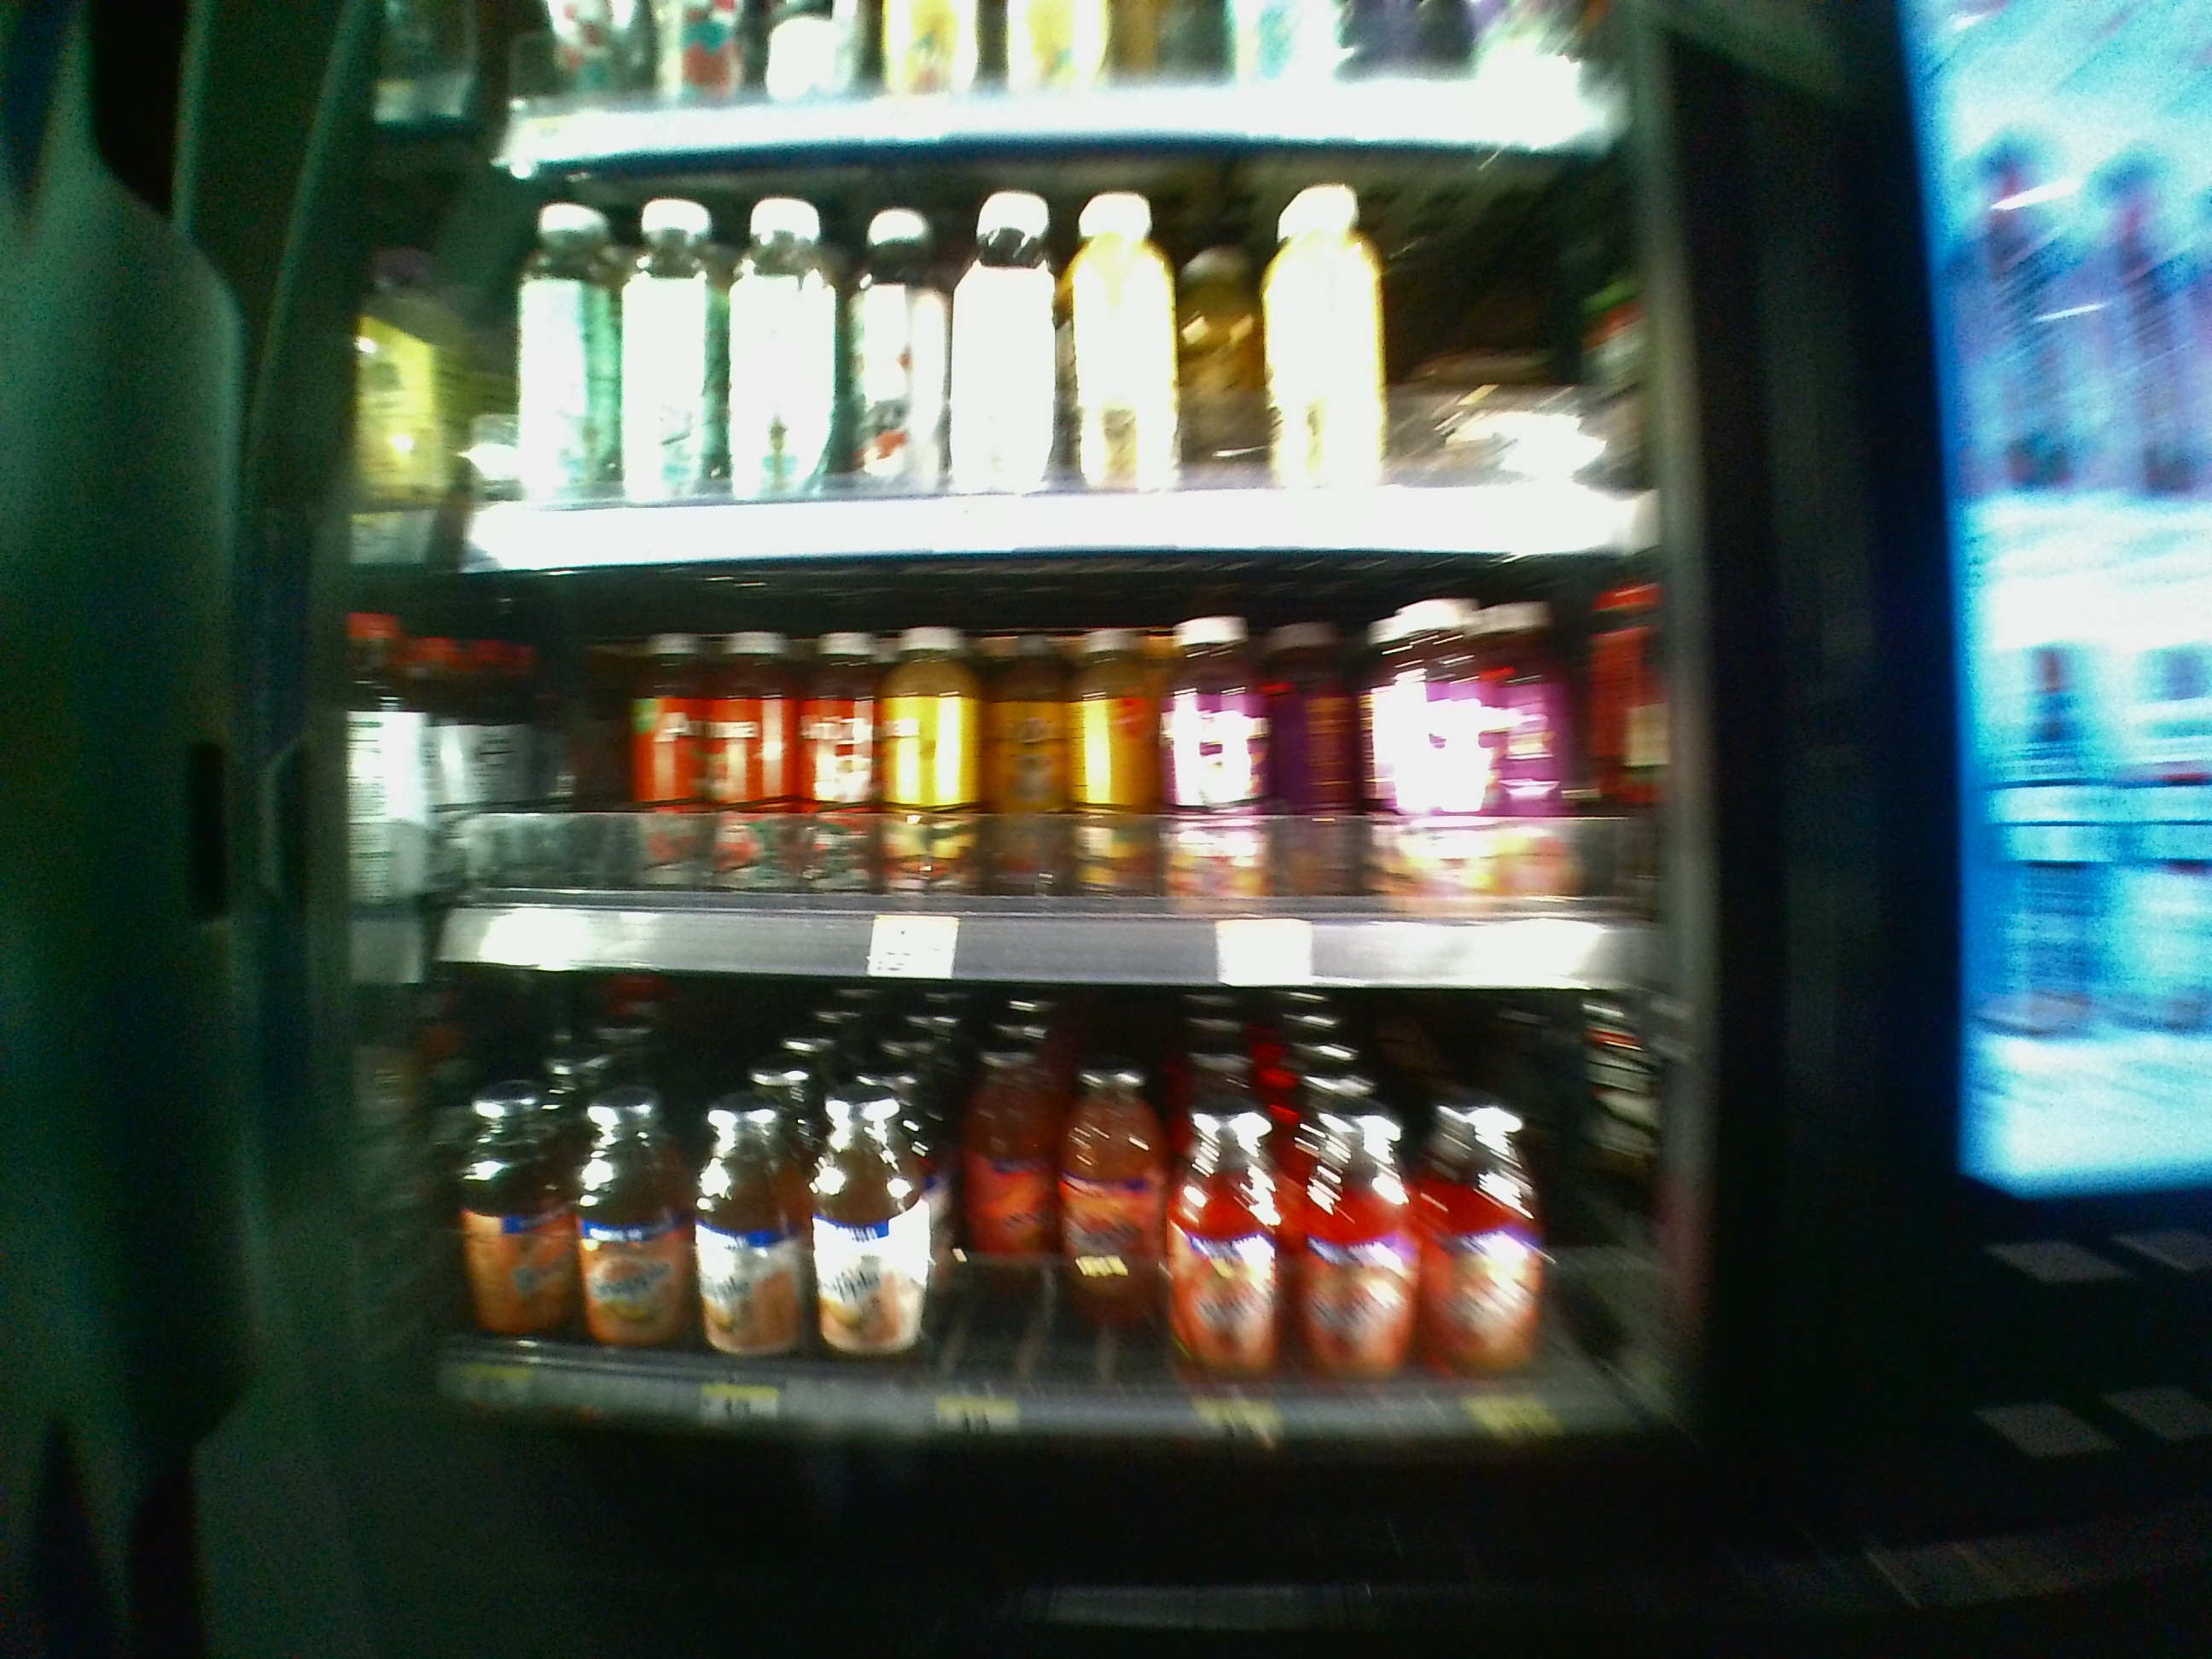shelf: (444, 997, 1656, 1434), (444, 572, 1656, 979), (439, 159, 1649, 566)
